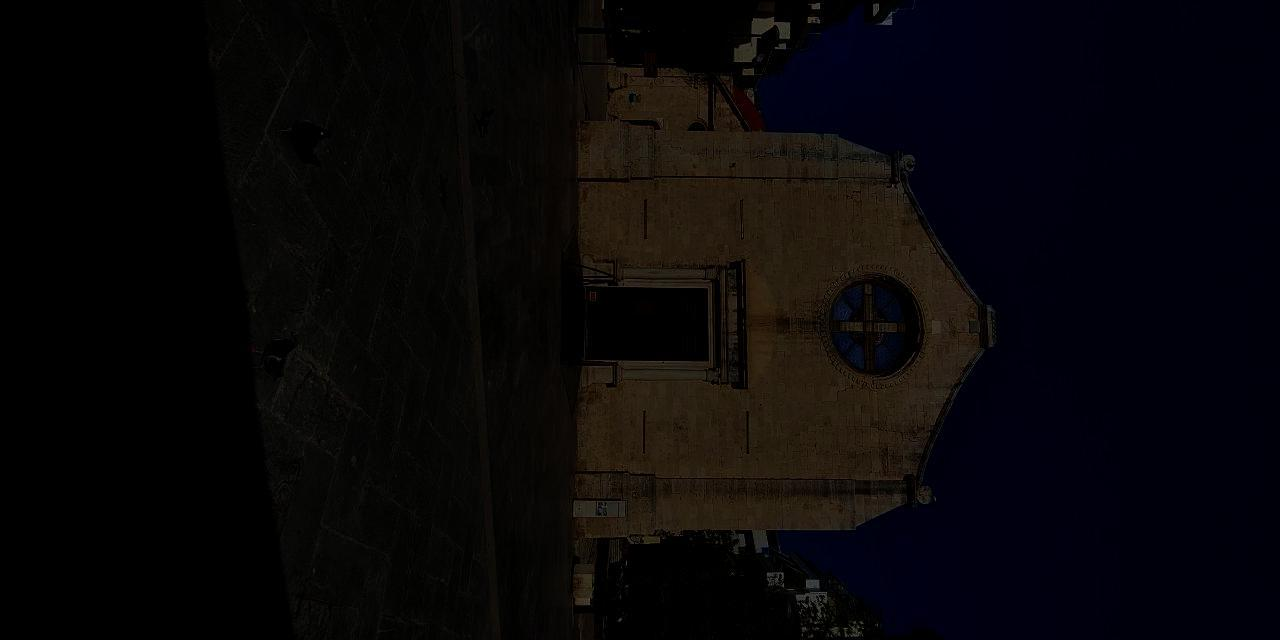Agia Aikaterini: (786, 1, 1165, 331)
